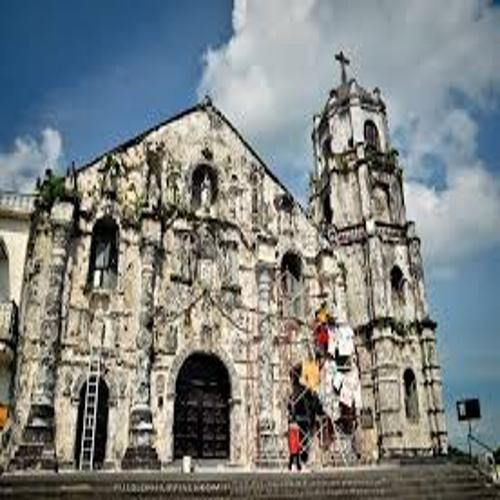Daraga Church: (34, 44, 453, 467)
